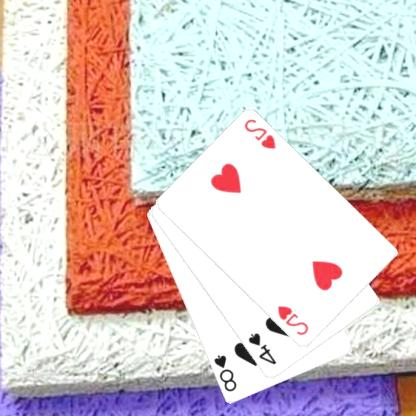2H: (243, 116, 279, 151), (276, 303, 312, 337)
4S: (247, 330, 279, 366)
8S: (212, 352, 240, 394)
